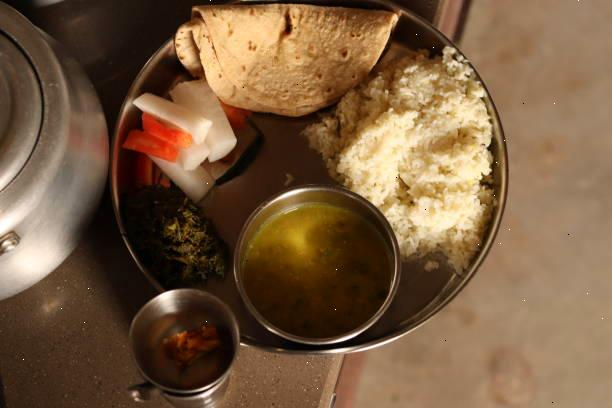daal: (239, 212, 393, 342)
rice: (365, 63, 505, 245)
roti phulka: (178, 3, 389, 107)
salad: (127, 84, 264, 196)
